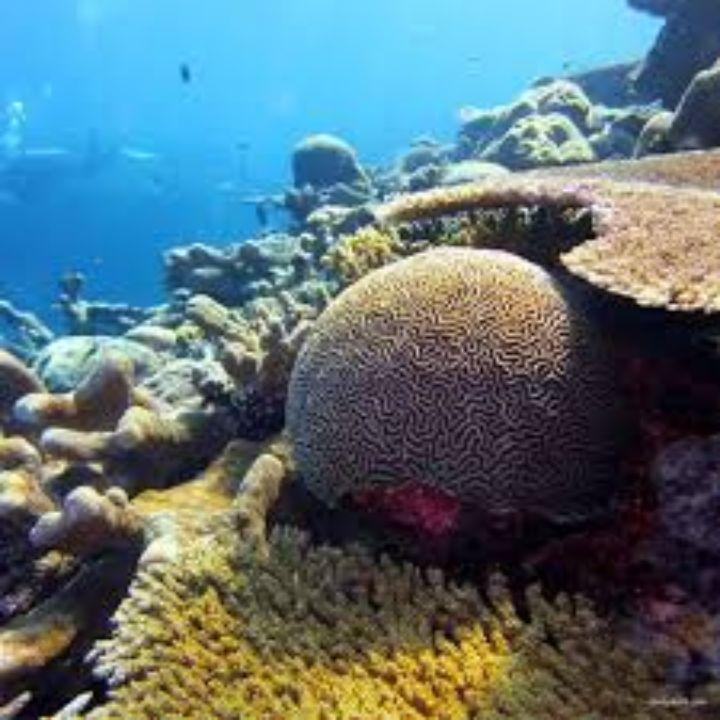Healthy Coral: (285, 239, 652, 561), (16, 363, 272, 710)
